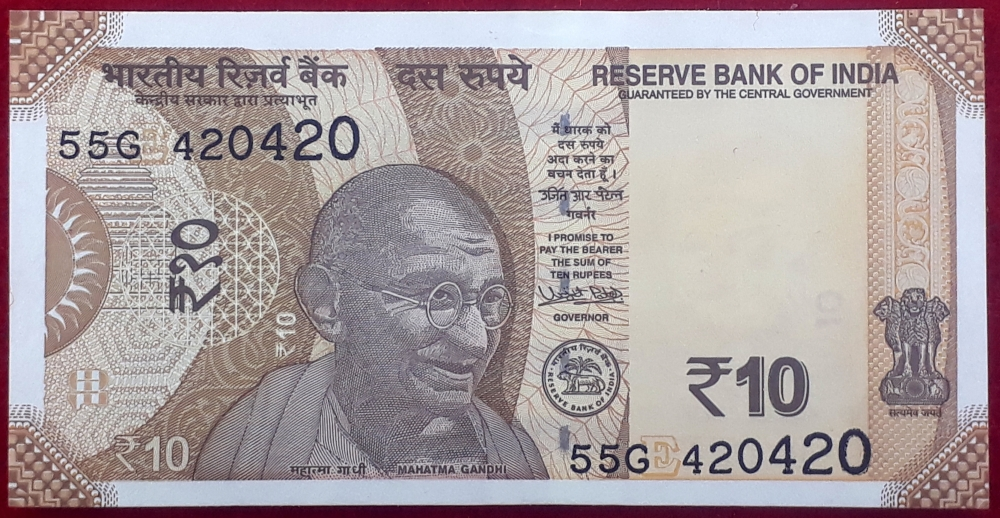ten_rupees_note: (7, 7, 998, 512)
